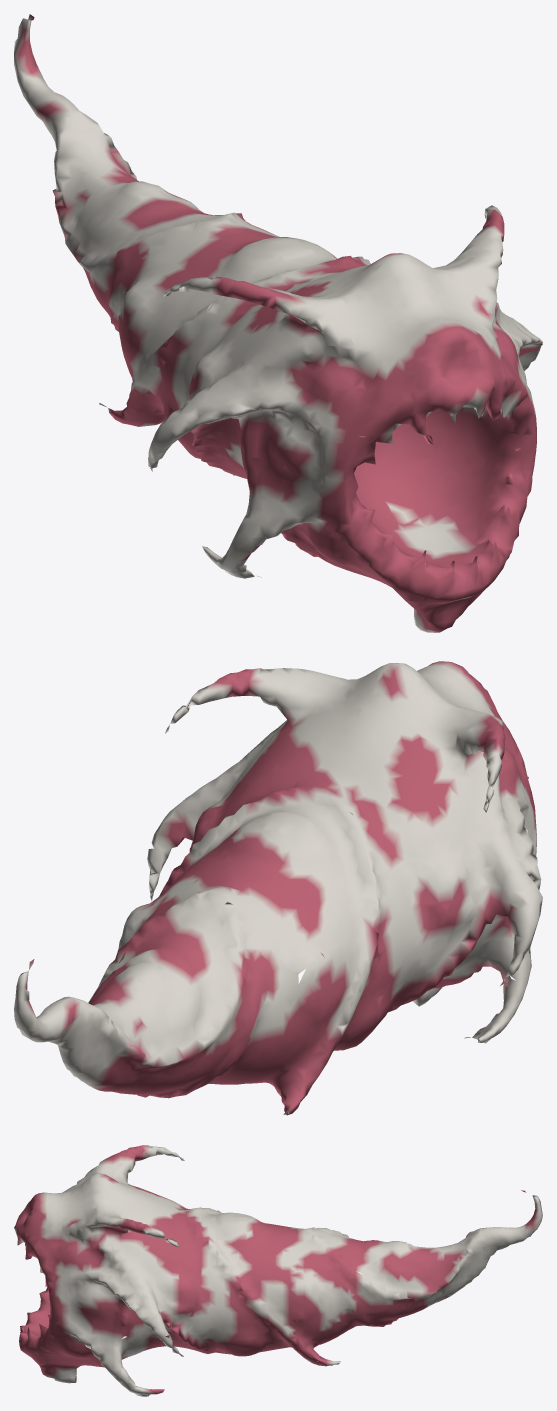
Rendered from mon3d_lo.glb.
The picture shows the model from 3 angles, top to bottom: view 1: azimuth 30°, elevation 25°; view 2: azimuth 150°, elevation 25°; view 3: azimuth 270°, elevation 25°; orthographic projection. The views are drawn at different scales.
Size of the model in its own units: 0.9547 by 0.8555 by 1.96.
